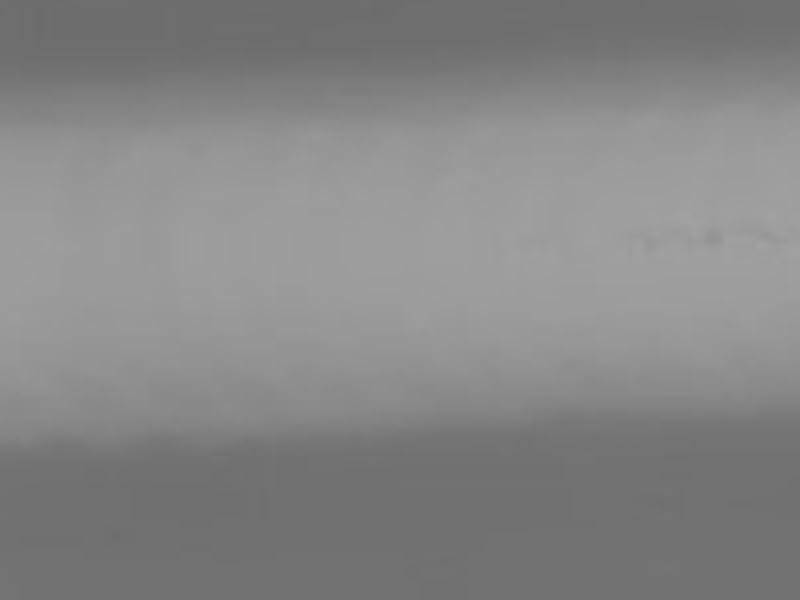defect: (700, 229, 727, 249)
